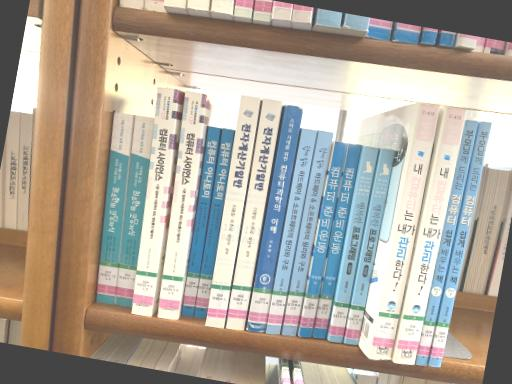book-spine: (394, 106, 467, 364), (370, 102, 440, 360), (429, 121, 492, 366), (416, 120, 478, 365), (226, 98, 282, 330), (205, 95, 260, 328), (247, 105, 303, 331), (158, 91, 208, 318), (131, 86, 180, 315), (282, 130, 334, 335), (267, 128, 317, 334), (344, 148, 396, 345), (329, 146, 379, 343), (299, 141, 348, 337), (313, 143, 362, 338), (194, 128, 235, 319), (181, 126, 221, 316), (96, 112, 135, 304), (115, 115, 154, 306)
